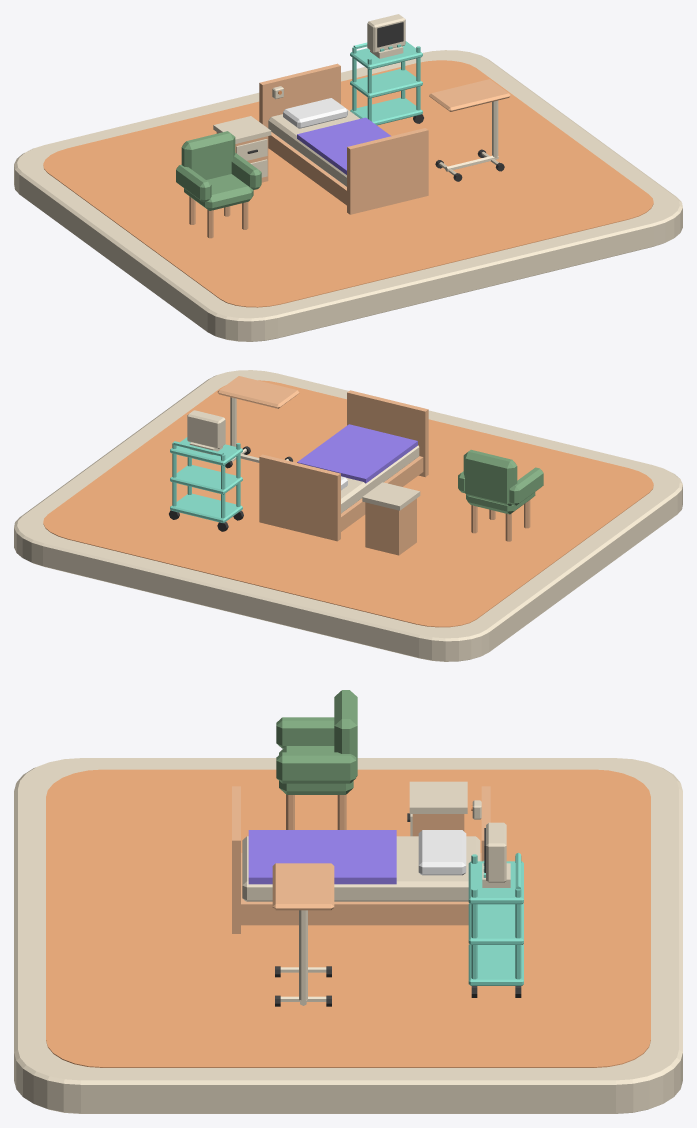
The picture shows the model from 3 angles, top to bottom: view 1: azimuth 30°, elevation 25°; view 2: azimuth 150°, elevation 25°; view 3: azimuth 270°, elevation 25°; orthographic projection. The views are drawn at different scales.
Parts seen in each view (by area): view 1: COM-02 Floor Surface, COM-01 Rounded Base Direct, End board, End board.001, Blanket, Back, Mattress, Table top, Frame, Cushion, Pillow, Tray.001 (+7 smaller); view 2: COM-02 Floor Surface, COM-01 Rounded Base Direct, End board.001, Blanket, End board, Body, Back, Table top, Housing, Mattress, Tray, Tray.001 (+5 smaller); view 3: COM-02 Floor Surface, COM-01 Rounded Base Direct, Blanket, Mattress, Frame, Table top, Arm.001, Pillow, Tray, Tray.001, Top, Arm (+7 smaller).
Part boxes in pixels (x1=…): COM-02 Floor Surface: x1=43, y1=60, x2=653, y2=307; COM-01 Rounded Base Direct: x1=14, y1=50, x2=682, y2=341; End board: x1=347, y1=128, x2=428, y2=214; End board.001: x1=259, y1=63, x2=340, y2=148; Blanket: x1=297, y1=117, x2=391, y2=174; Back: x1=181, y1=131, x2=235, y2=179; Mattress: x1=268, y1=102, x2=359, y2=186; Table top: x1=429, y1=79, x2=510, y2=111; Frame: x1=268, y1=132, x2=346, y2=205; Cushion: x1=184, y1=174, x2=253, y2=210; Pillow: x1=283, y1=98, x2=347, y2=128; Tray.001: x1=350, y1=69, x2=422, y2=98; COM-02 Floor Surface: x1=43, y1=380, x2=653, y2=627; COM-01 Rounded Base Direct: x1=14, y1=370, x2=682, y2=661; End board.001: x1=259, y1=454, x2=340, y2=541; Blanket: x1=297, y1=424, x2=417, y2=483; End board: x1=347, y1=390, x2=428, y2=477; Body: x1=365, y1=498, x2=416, y2=555; Back: x1=463, y1=449, x2=517, y2=505; Table top: x1=217, y1=376, x2=299, y2=408; Housing: x1=187, y1=410, x2=225, y2=448; Mattress: x1=341, y1=445, x2=419, y2=513; Tray: x1=170, y1=493, x2=242, y2=523; Tray.001: x1=170, y1=465, x2=242, y2=494; COM-02 Floor Surface: x1=46, y1=769, x2=650, y2=1067; COM-01 Rounded Base Direct: x1=14, y1=758, x2=682, y2=1113; Blanket: x1=248, y1=830, x2=396, y2=884; Mattress: x1=242, y1=836, x2=480, y2=901; Frame: x1=241, y1=853, x2=481, y2=925; Table top: x1=272, y1=863, x2=334, y2=910; Arm.001: x1=276, y1=752, x2=356, y2=783; Pillow: x1=418, y1=830, x2=466, y2=875; Tray: x1=468, y1=944, x2=523, y2=985; Tray.001: x1=468, y1=903, x2=523, y2=944; Top: x1=409, y1=781, x2=467, y2=813; Arm: x1=276, y1=717, x2=334, y2=748.
Bounding box in the file's own units: 6 × 1.56 × 5.2.
1 material, 1 textured.
